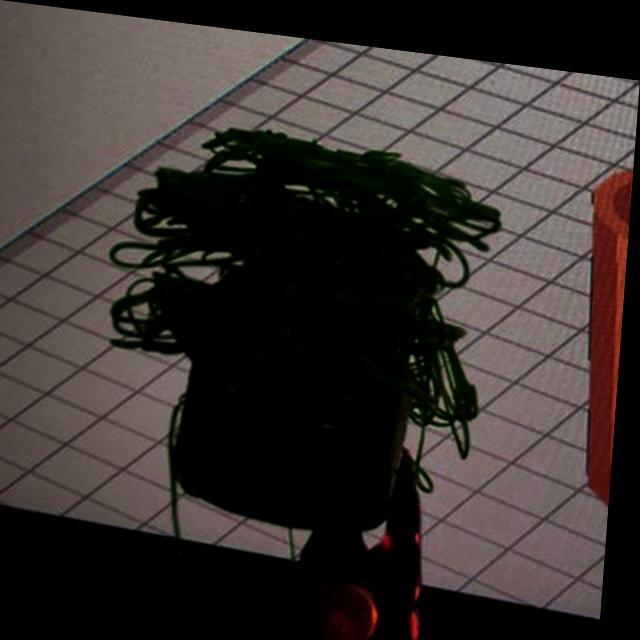spaghetti: (97, 101, 518, 492)
